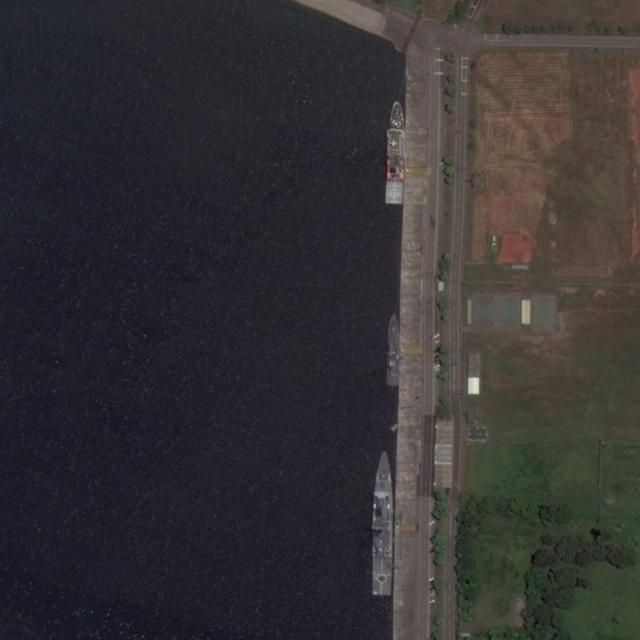Commander: (382, 99, 408, 206)
Frigate: (372, 451, 395, 596)
Other Warship: (387, 315, 401, 383)
